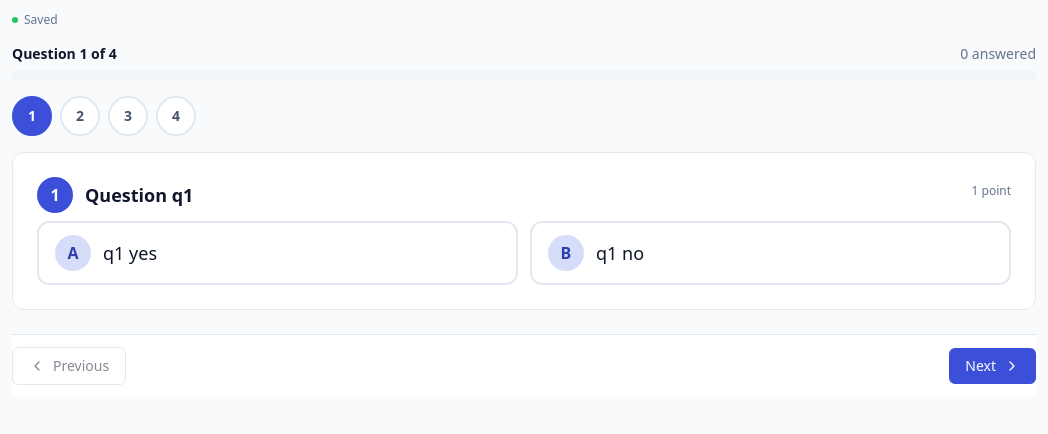
Test: QuizRunner submit gate › offers Submit from any question once the end has been reached
The image size is (1048, 434).
Click the button named "Question 4, not answered".
click(176, 116)  # box [156,96,196,136]
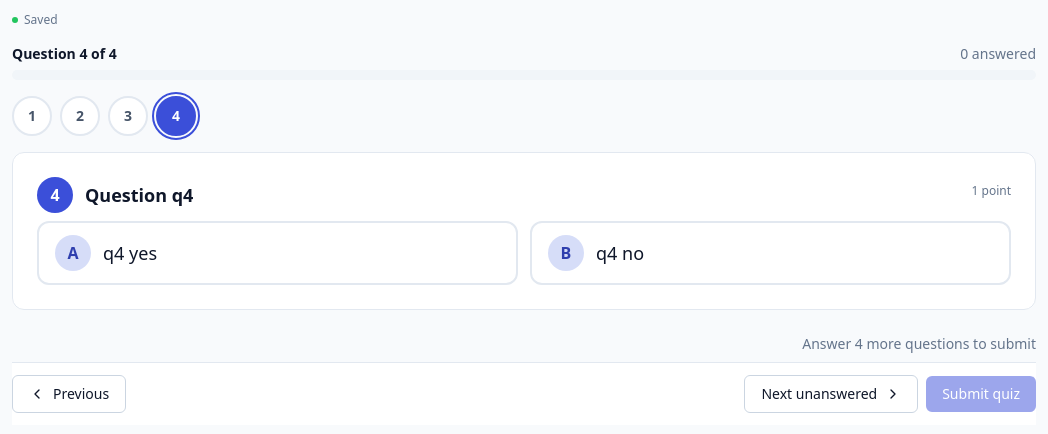
Click the button named "Question 1, not answered".
click(32, 116)  # box [12,96,52,136]
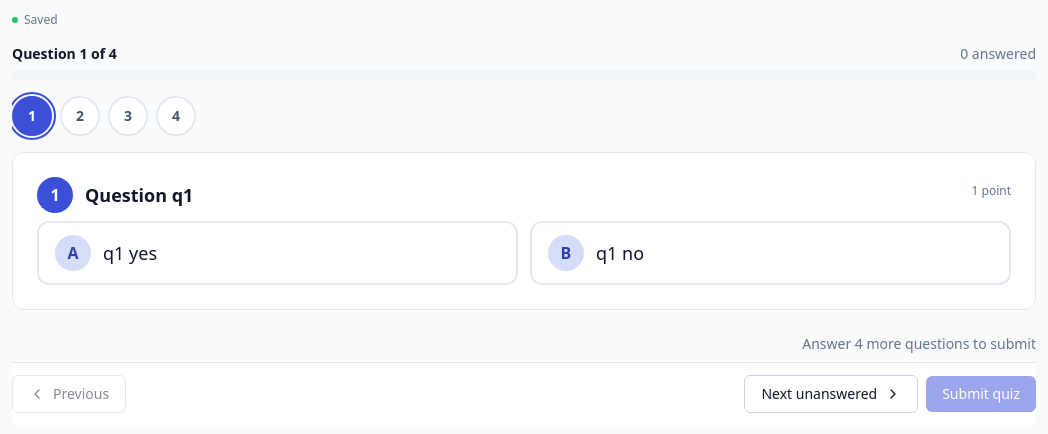
Now the button "Submit quiz" is disabled, box [926,376,1036,412]
Click the button "Next unanswered".
click(831, 394)  # box [744,375,918,413]
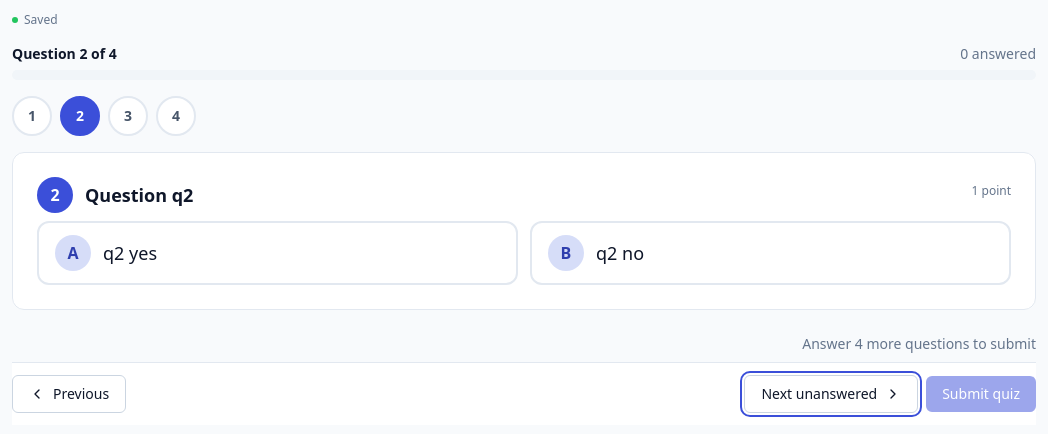
Now the text "Question q2" is shown, box [85,181,193,209]
